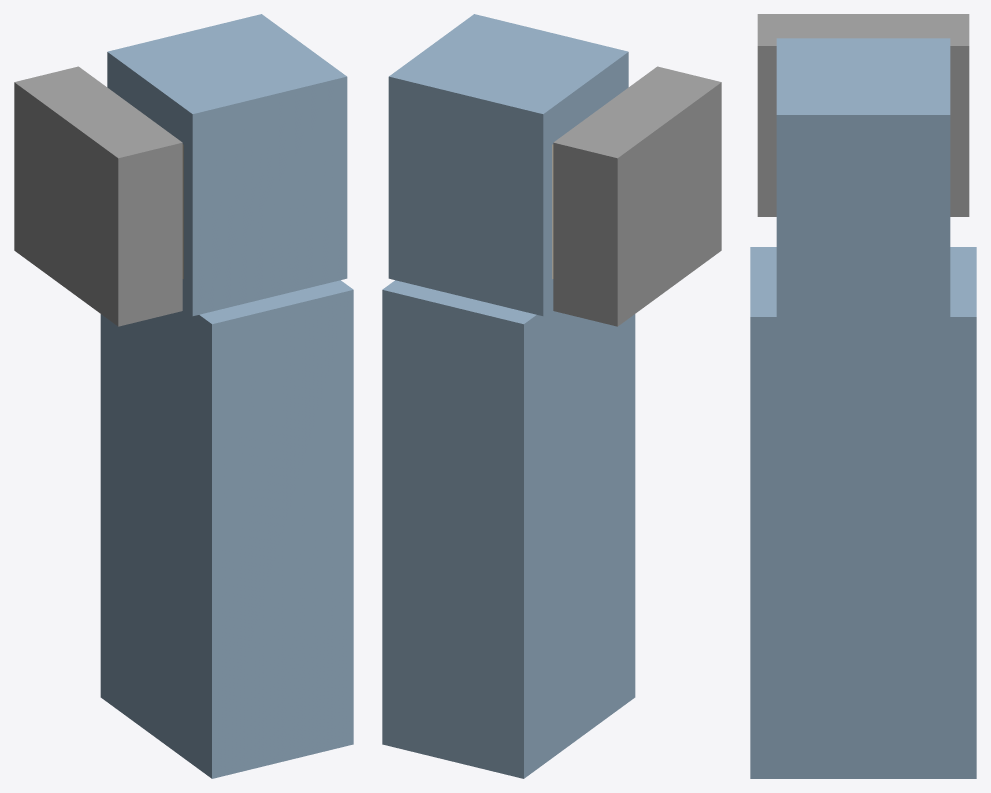
The model's file is covered.gltf.
The picture shows the model from 3 angles, left to right: view 1: azimuth 30°, elevation 25°; view 2: azimuth 150°, elevation 25°; view 3: azimuth 270°, elevation 25°; orthographic projection.
Parts seen in each view (by area): view 1: body, cover; view 2: body, cover; view 3: body, cover.
Part boxes in pixels (x1,y1,x2,y2): body: (100, 14, 353, 778); cover: (14, 66, 182, 326); body: (382, 14, 635, 778); cover: (553, 66, 721, 326); body: (750, 38, 976, 778); cover: (757, 14, 969, 216).
Bounding box in the file's own units: 0.74 × 1.95 × 0.6.
